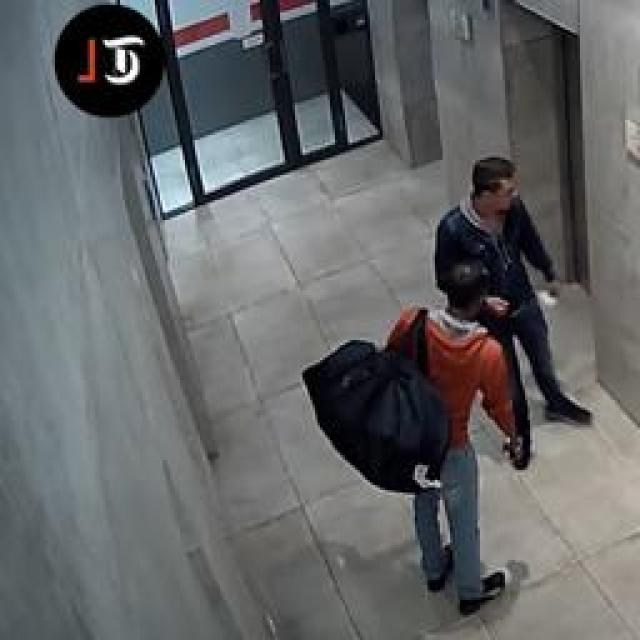person: (280, 238, 532, 628), (418, 140, 568, 322)
